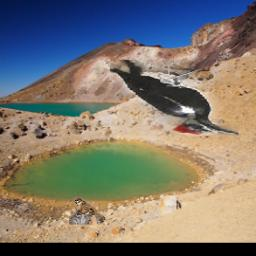Sparrow: (70, 198, 106, 226)
Woodpecker: (110, 60, 238, 136)
